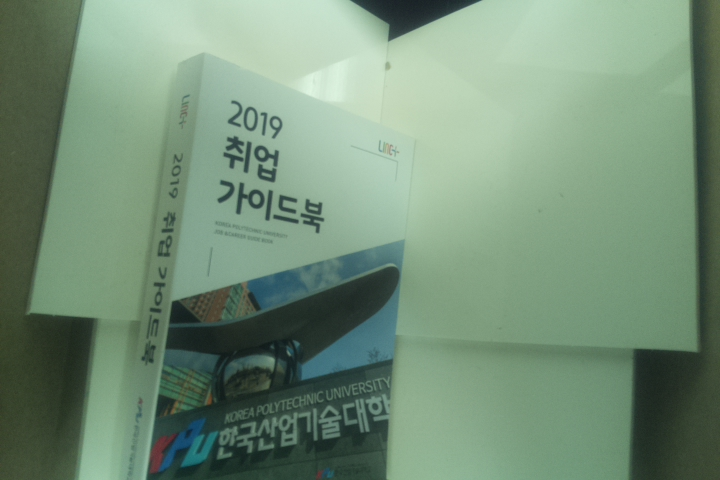book: (110, 52, 418, 480)
